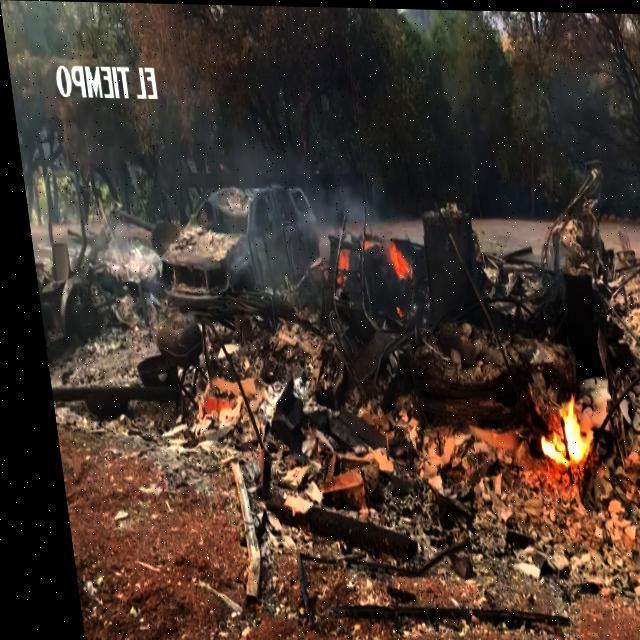Fire: (522, 386, 588, 460), (380, 240, 406, 275), (331, 244, 344, 272), (388, 304, 398, 318)
